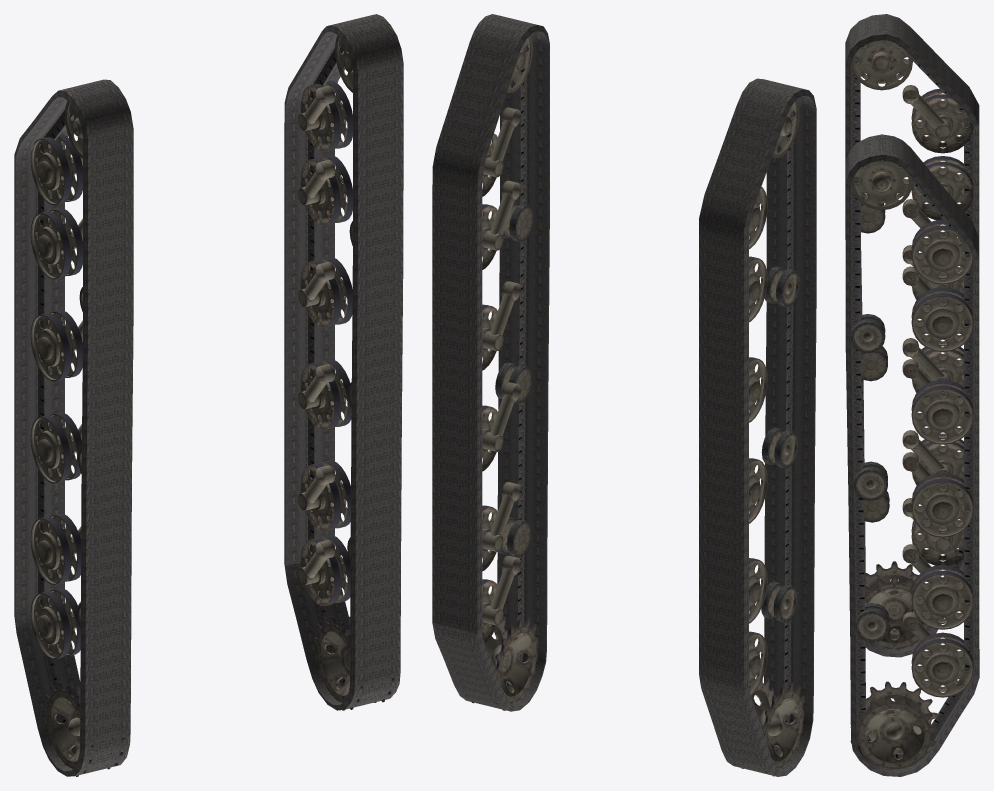
The model's file is Chassis.glb.
3 renders of one model, left to right at view 1: azimuth 30°, elevation 25°; view 2: azimuth 150°, elevation 25°; view 3: azimuth 270°, elevation 25°, orthographic. The views are drawn at different scales.
Visible parts, largest first — view 1: set_0_group_0, set_1_group_0, set_3_group_0, set_2_group_0; view 2: set_0_group_0, set_1_group_0, set_3_group_0, set_2_group_0; view 3: set_3_group_0, set_1_group_0, set_2_group_0, set_0_group_0.
Part boxes in pixels (left/top/right/bottom): set_0_group_0: left=14, top=79, right=133, bottom=776; set_1_group_0: left=284, top=14, right=403, bottom=710; set_3_group_0: left=298, top=35, right=394, bottom=710; set_2_group_0: left=30, top=101, right=124, bottom=776; set_0_group_0: left=699, top=78, right=816, bottom=776; set_1_group_0: left=432, top=14, right=549, bottom=711; set_3_group_0: left=465, top=35, right=537, bottom=710; set_2_group_0: left=729, top=99, right=804, bottom=776; set_3_group_0: left=850, top=160, right=973, bottom=769; set_1_group_0: left=845, top=134, right=979, bottom=776; set_2_group_0: left=851, top=40, right=973, bottom=649; set_0_group_0: left=845, top=14, right=979, bottom=657.
Bounding box in the file's own units: 2.43 × 4.99 × 0.973.
Materials: 4 (4 with a texture image).
